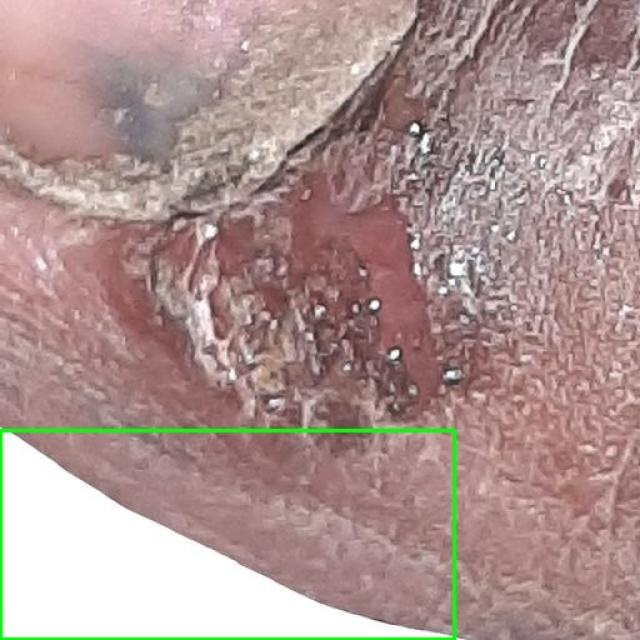Eczema: (0, 430, 454, 639)
